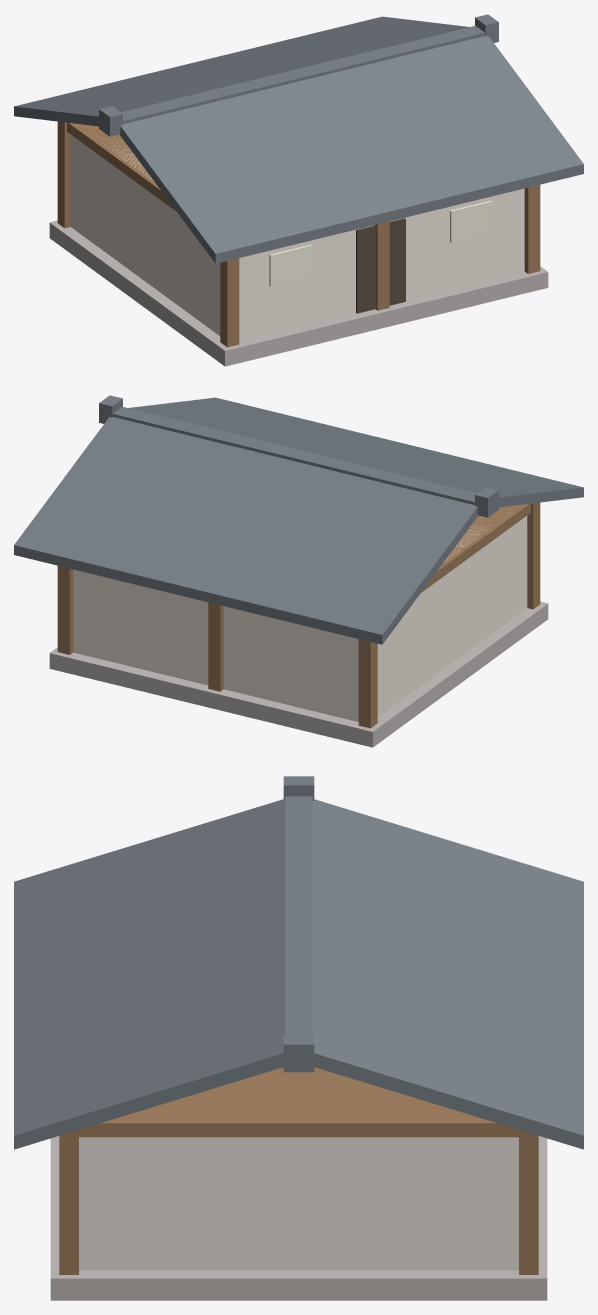
File: house_s1_01.glb
3 renders of one model, top to bottom at view 1: azimuth 30°, elevation 25°; view 2: azimuth 150°, elevation 25°; view 3: azimuth 270°, elevation 25°, orthographic. The views are drawn at different scales.
Parts seen in each view (by area): view 1: part01, part04, part03, part02, part00, part05; view 2: part01, part04, part03, part02; view 3: part01, part04, part02, part03.
Part boxes in pixels (<box>): part01: <box>14,14,583,263</box>; part04: <box>70,134,524,340</box>; part03: <box>49,220,548,366</box>; part02: <box>57,121,540,347</box>; part00: <box>356,218,405,313</box>; part05: <box>269,200,492,286</box>; part01: <box>14,395,583,644</box>; part04: <box>73,514,527,721</box>; part03: <box>49,601,548,747</box>; part02: <box>57,502,540,728</box>; part01: <box>14,776,583,1149</box>; part04: <box>79,1137,518,1270</box>; part02: <box>59,1067,538,1274</box>; part03: <box>50,1136,547,1300</box>.
Bounding box in the file's own units: 10.37 × 5.02 × 9.3.
